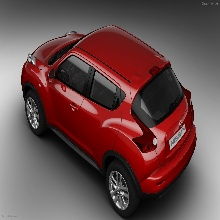no damage: (21, 24, 198, 220)
